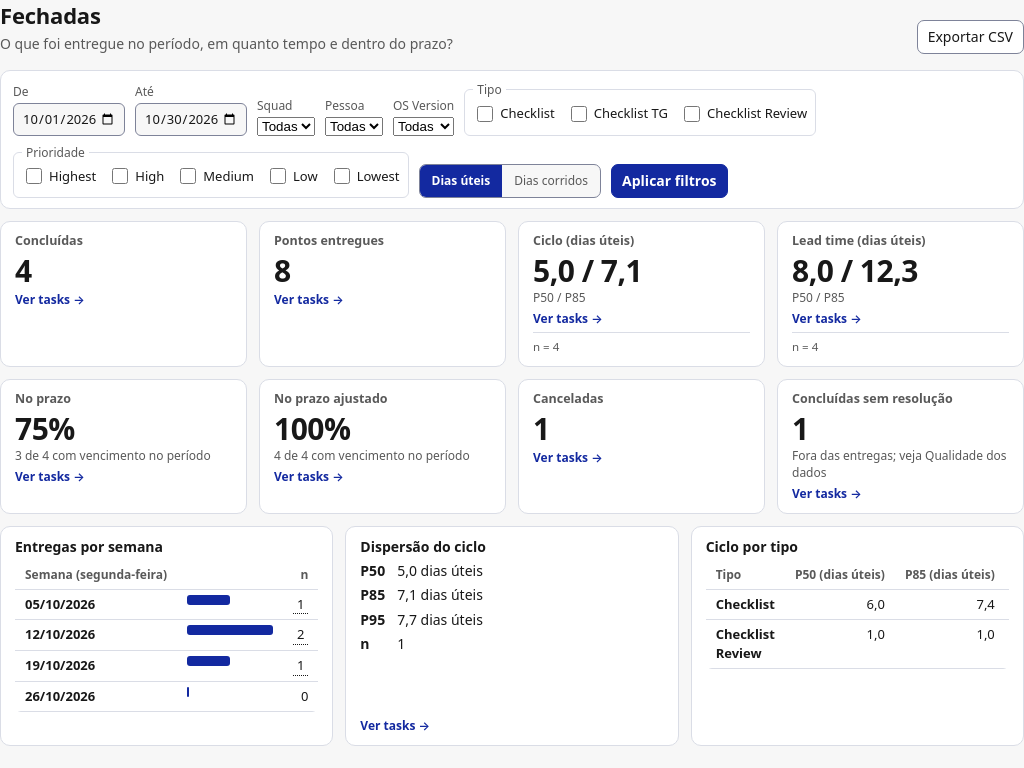
Test: tela Fechadas › kpiAbreGavetaComMesmoTamanho
The image size is (1024, 768).
Click the button named "Concluídas" at [124, 281], box top-left (15, 254), bottom-right (232, 308)
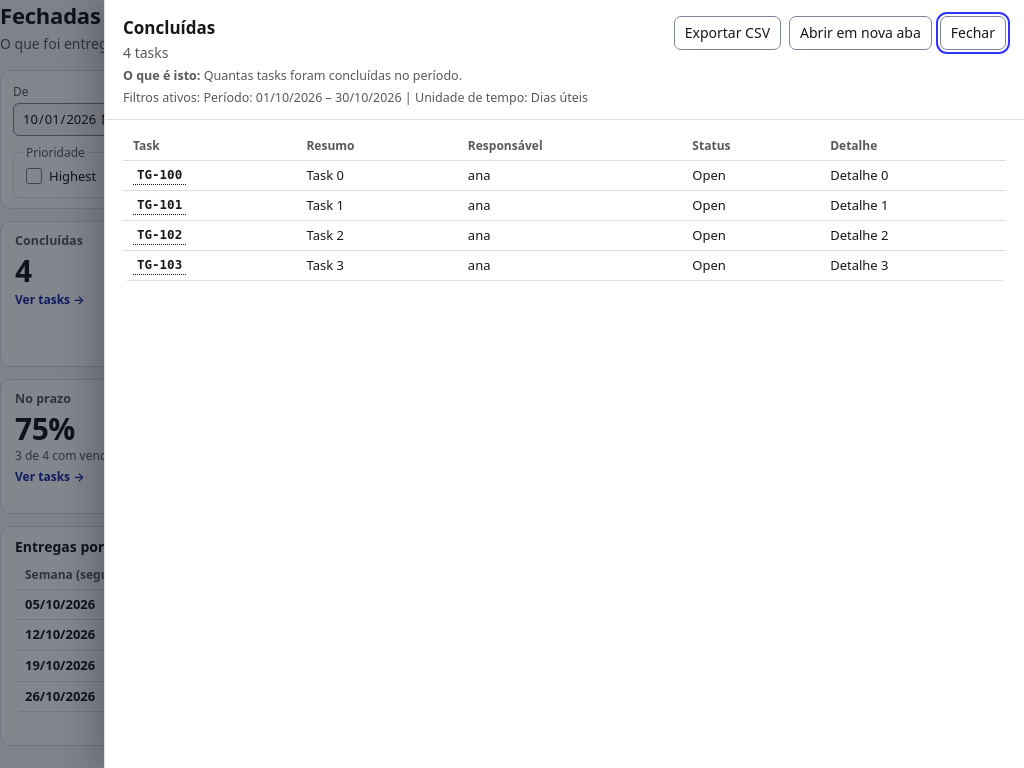
Now the text "4 tasks" is shown, box top-left (123, 43), bottom-right (168, 62)
